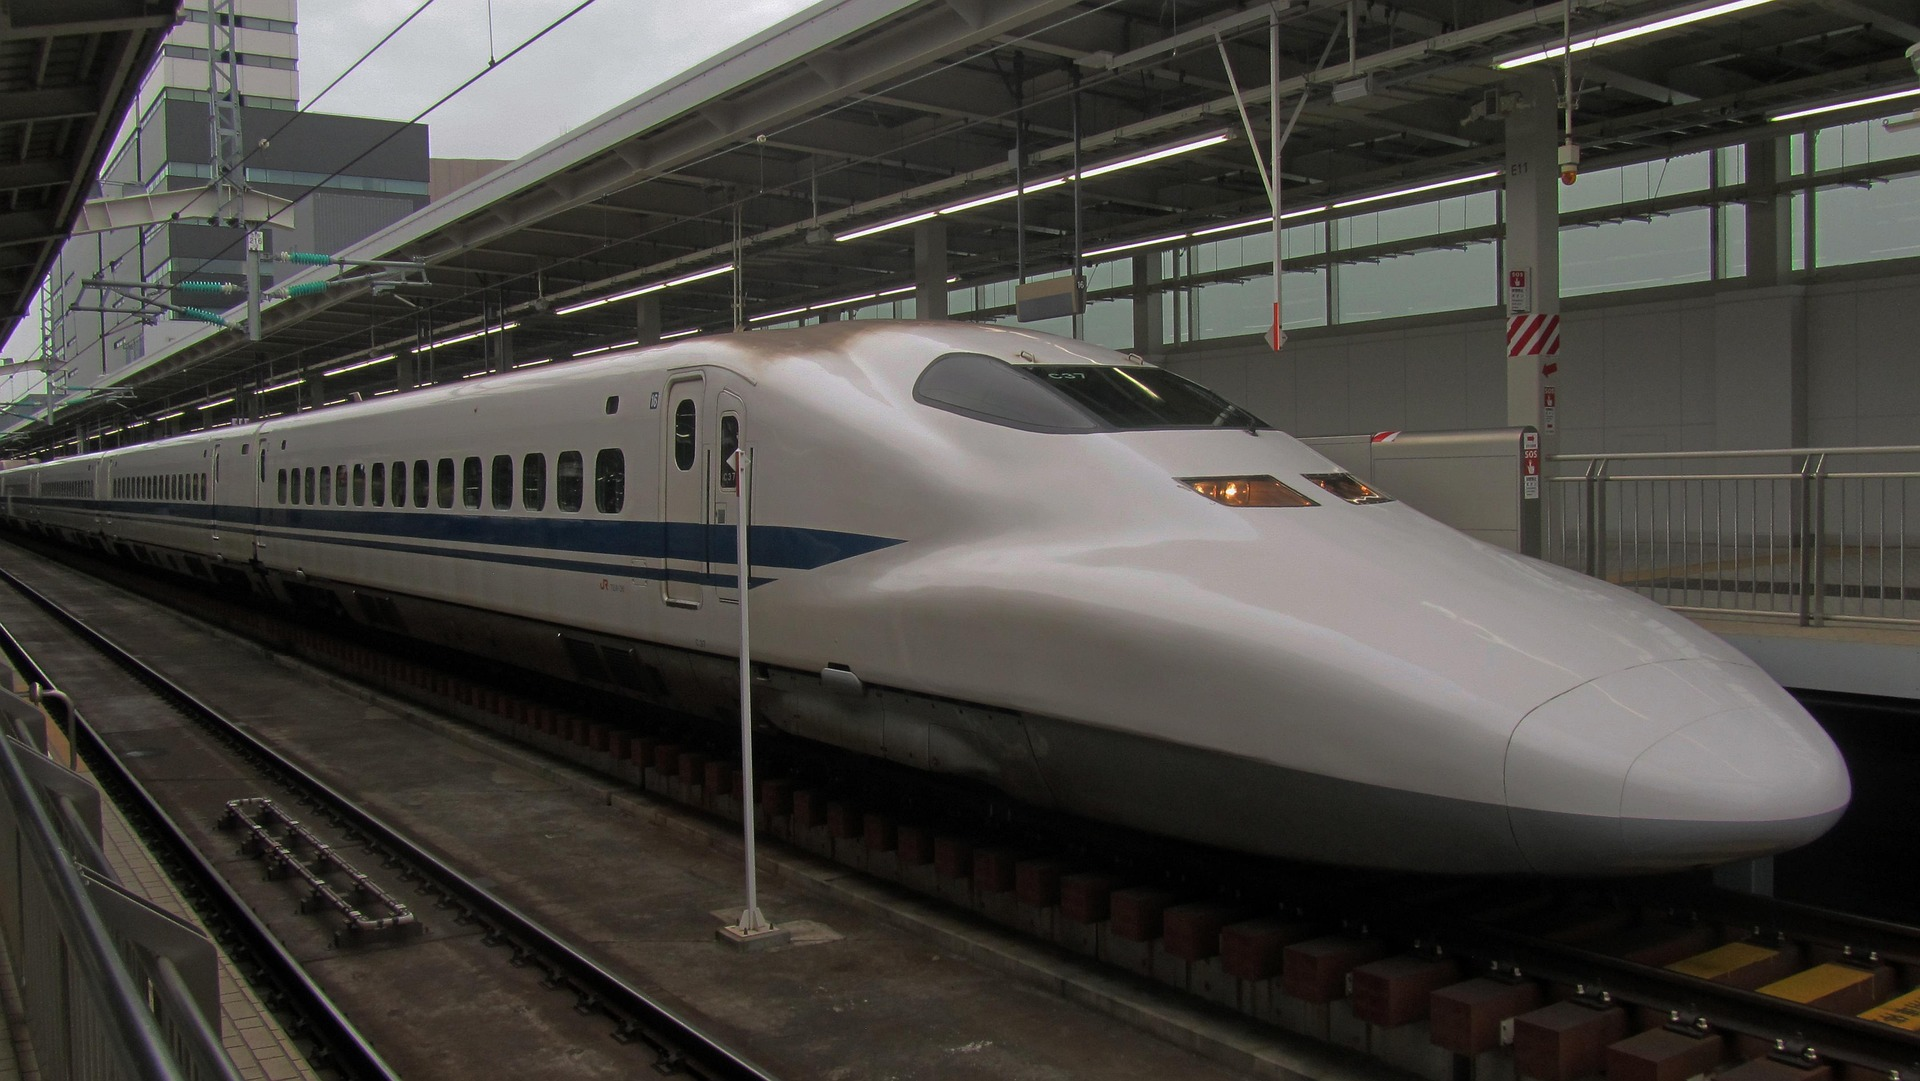train1: (0, 311, 1871, 896)
